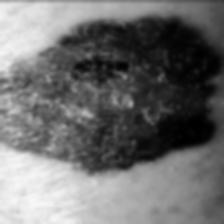Potentially Malignant Skin Tumors: (122, 15, 214, 168), (0, 21, 93, 171)
